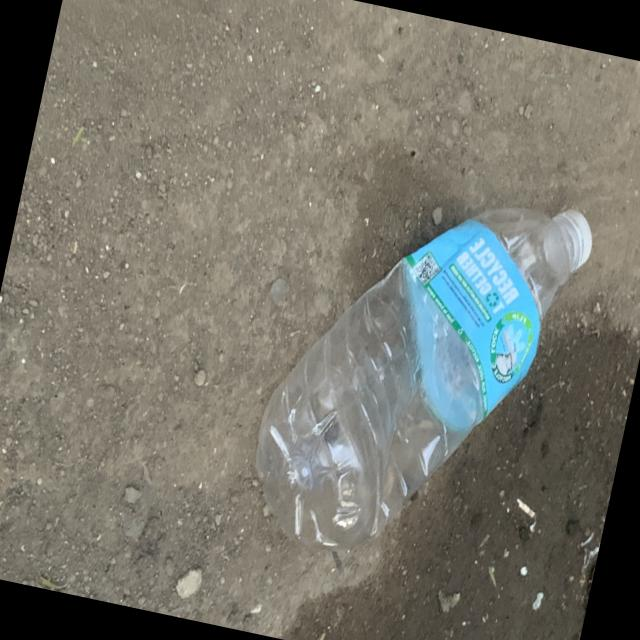Bottle: (254, 208, 590, 552)
